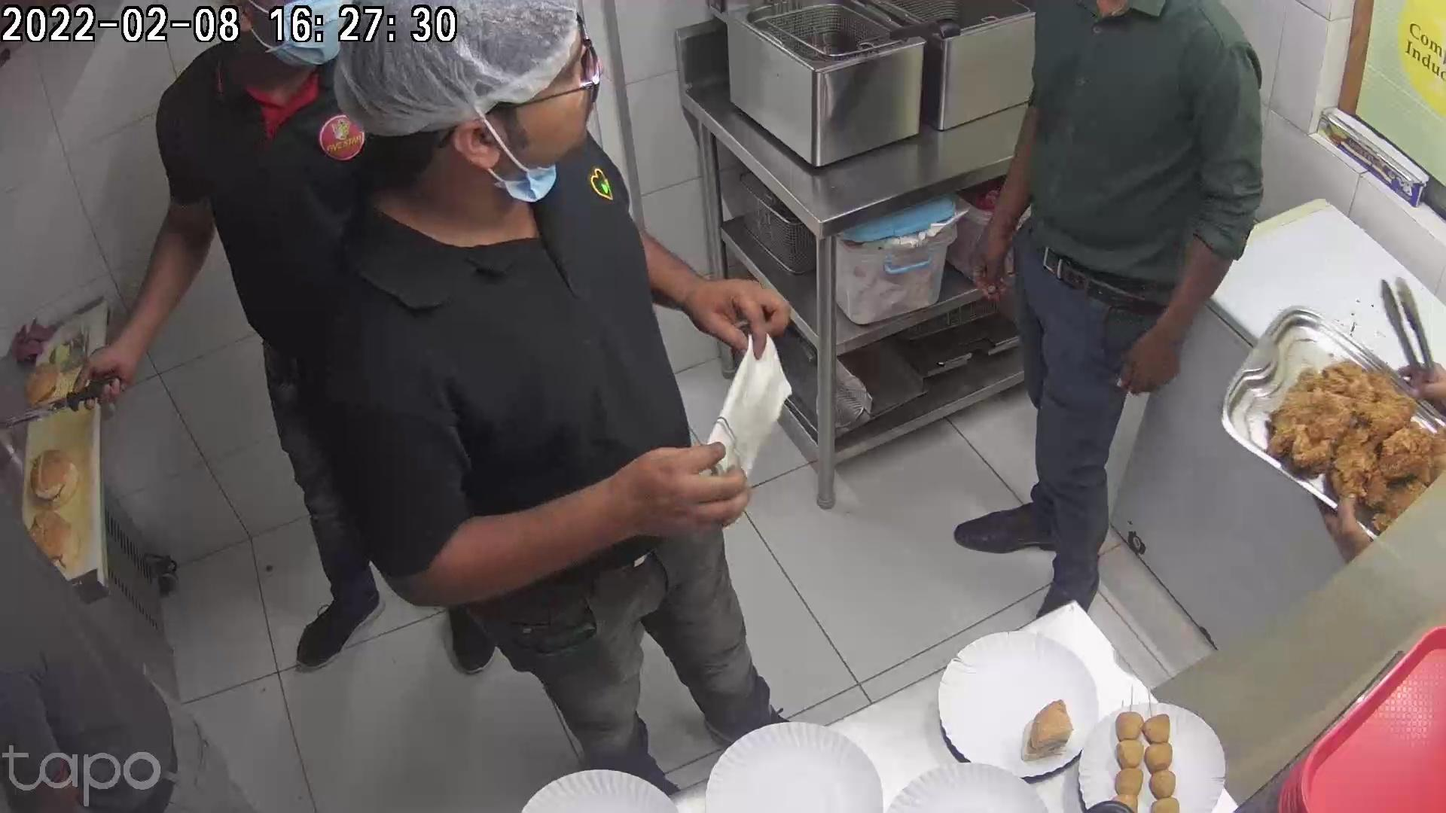no_gloves: (595, 447, 746, 545)
